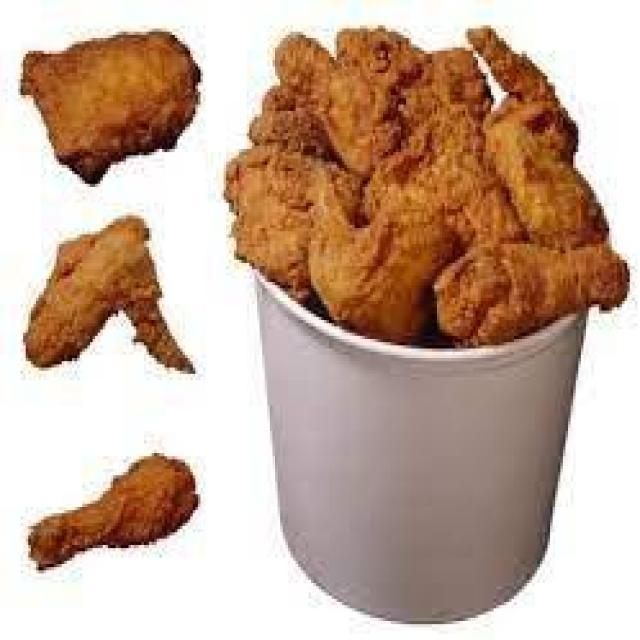Chicken -Fried Chicken-: (224, 27, 628, 349), (19, 30, 202, 186), (23, 217, 189, 373), (24, 453, 200, 574)
